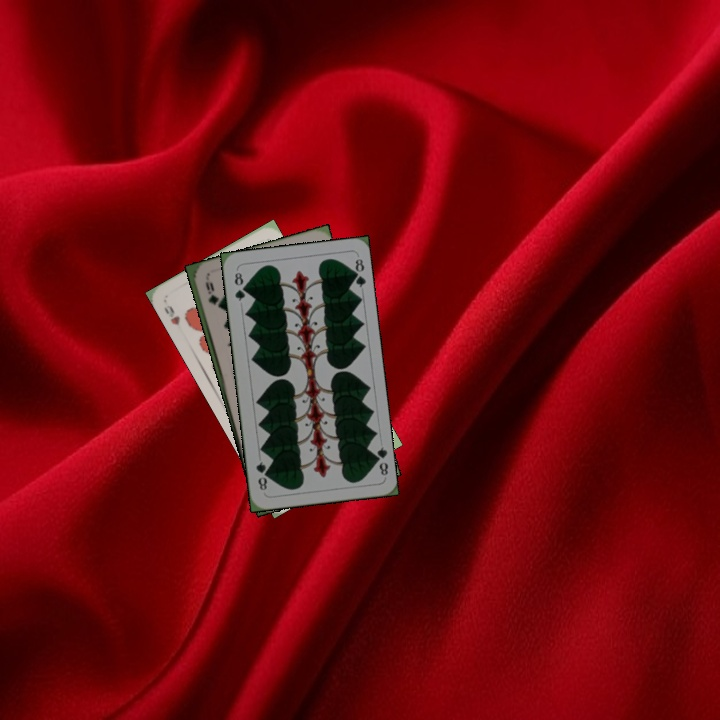G8: (369, 443, 391, 478), (230, 268, 248, 304)
G9: (201, 278, 219, 308)
H9: (160, 301, 182, 328)
